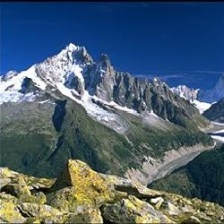neutral: (2, 6, 224, 221)
